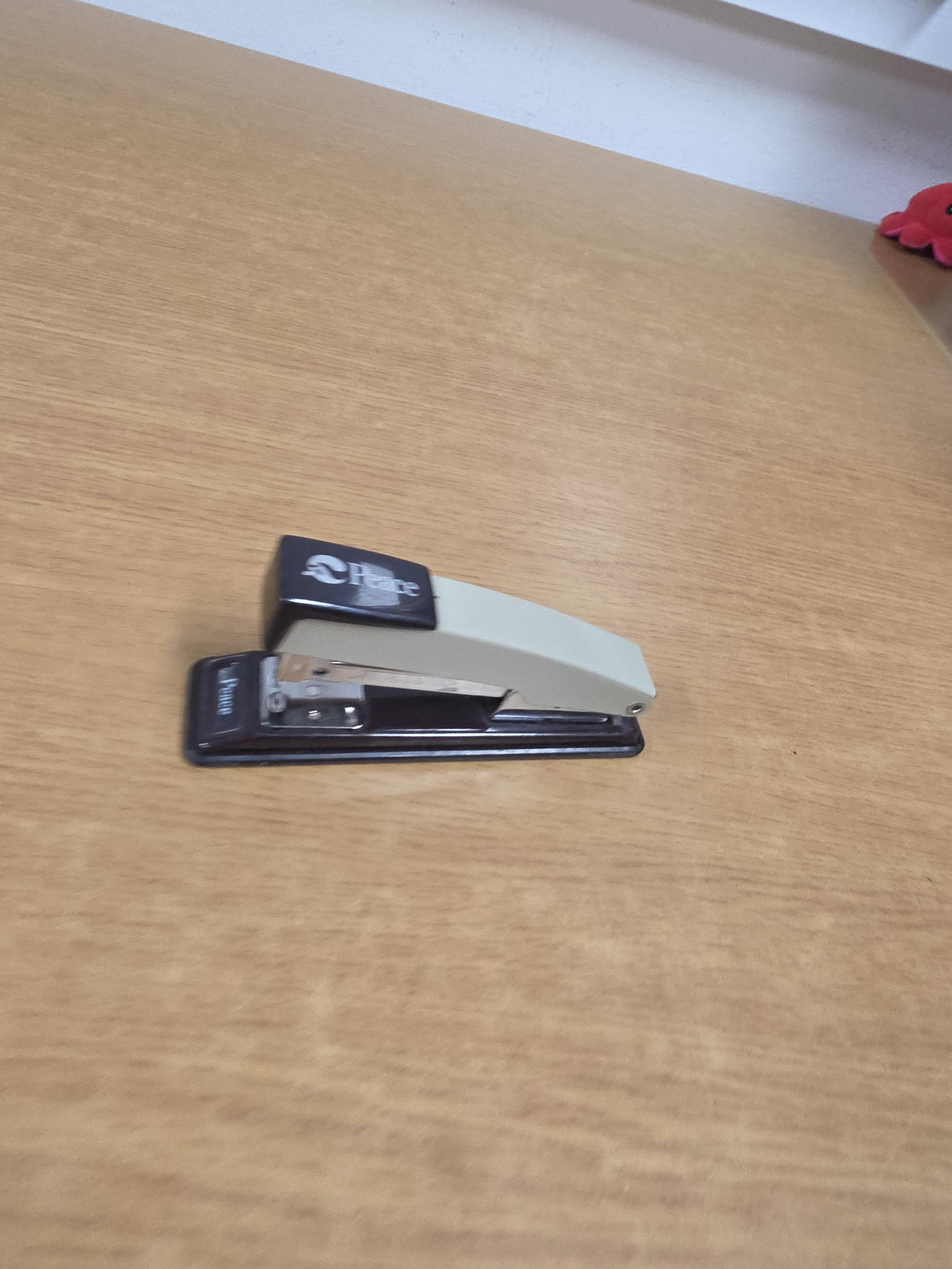stapler: (182, 532, 657, 769)
